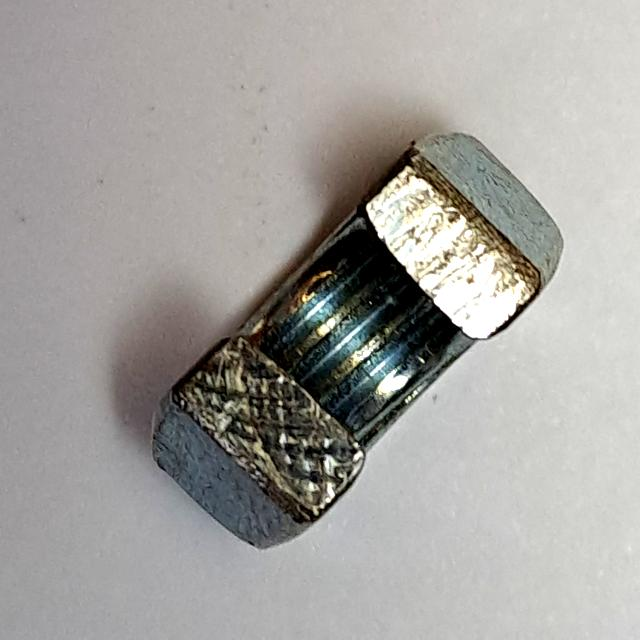Side-Fracture: (134, 119, 570, 564)
